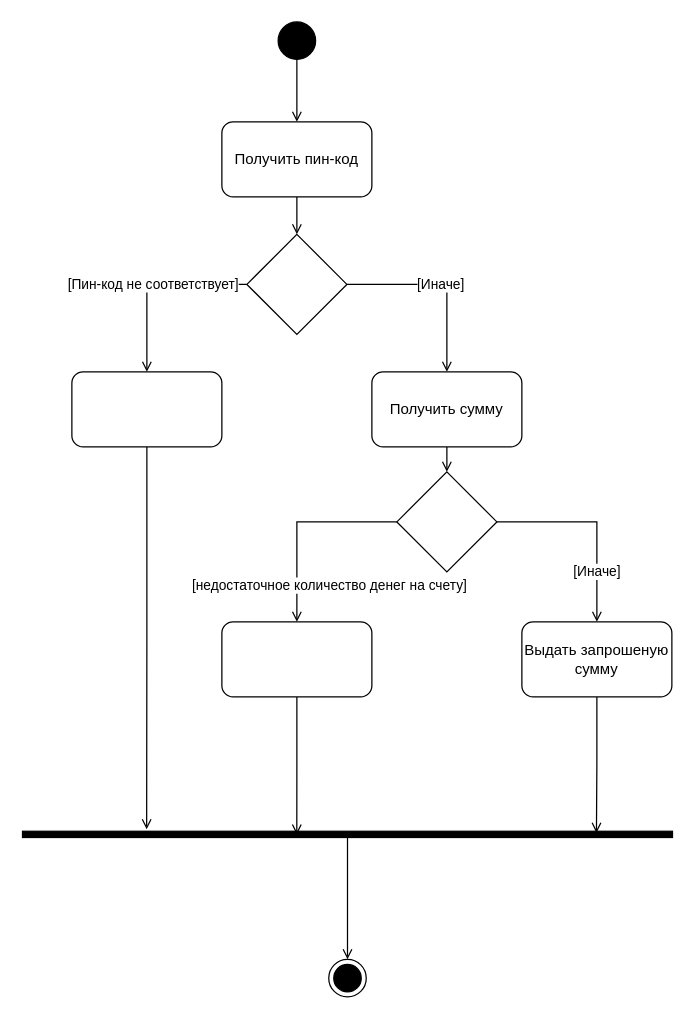
Some shapes in this 694 by 1019 pixel diagram are drawn without their labels. Each missing label, with the centre of its shape:
"Вывести сообщение что введенная сумма не доступна" belongs at [296,659].
"Вывести сообщение что пин-код введен неверно" belongs at [146,409].
